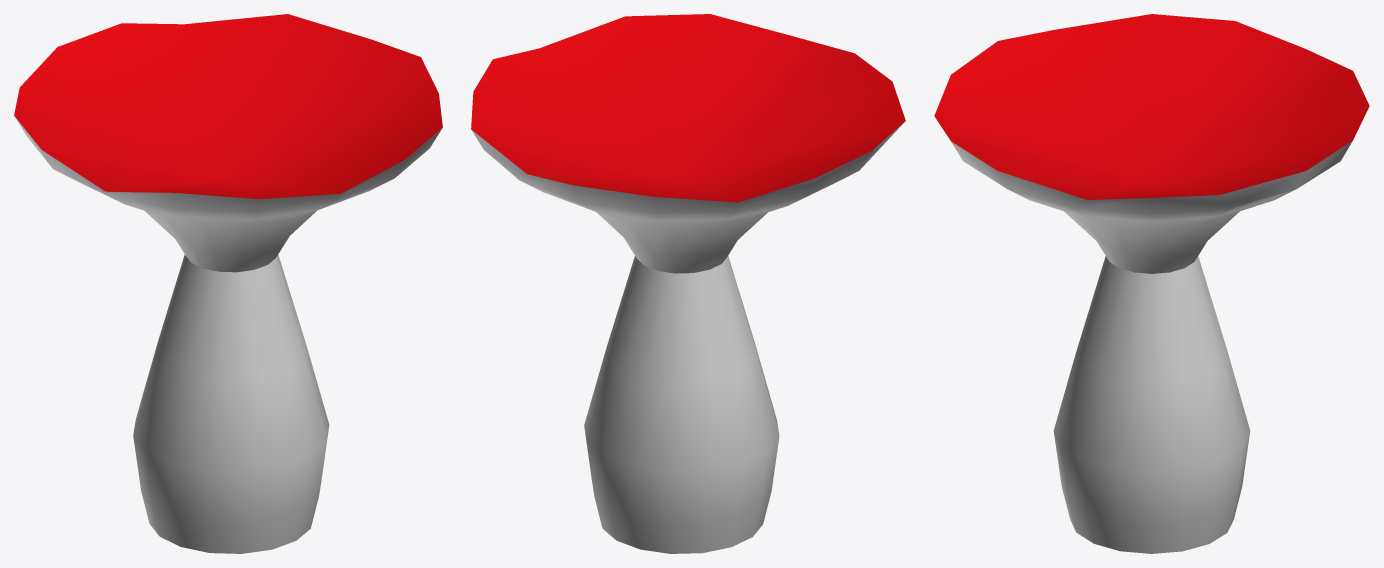
File: SK_Mushroom_02.fbx
3 views of the same model, side by side, from view 1: azimuth 30°, elevation 25°; view 2: azimuth 150°, elevation 25°; view 3: azimuth 270°, elevation 25° (orthographic).
Visible parts, largest first — view 1: Mushroom 02; view 2: Mushroom 02; view 3: Mushroom 02.
Part boxes in pixels (left/top/right/bottom): Mushroom 02: left=14, top=14, right=442, bottom=553; Mushroom 02: left=471, top=14, right=905, bottom=553; Mushroom 02: left=934, top=14, right=1369, bottom=553.
Size of the model in its own units: 224 by 242 by 224.
